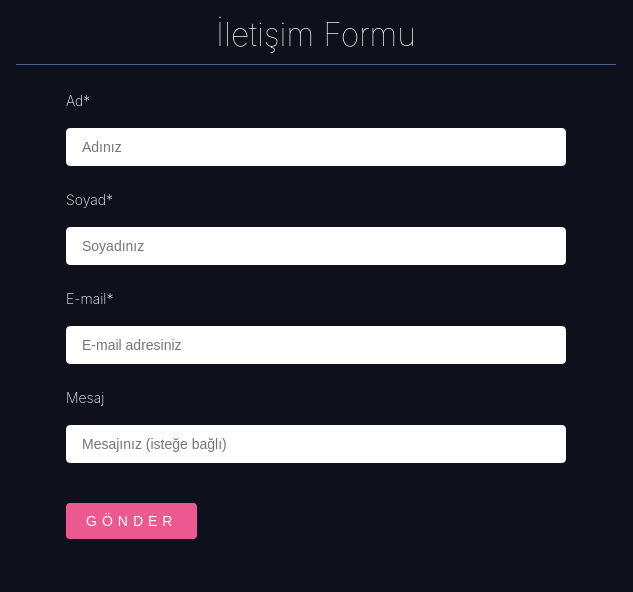
Test: [5] kullanıcı doğru ad ve soyad girdiğinde ama email girmediğinde BİR hata mesajı render ediliyor.
Type "Ahmet" into the field with test id "name-input" at (316, 147), box left=66, top=128, right=566, bottom=166
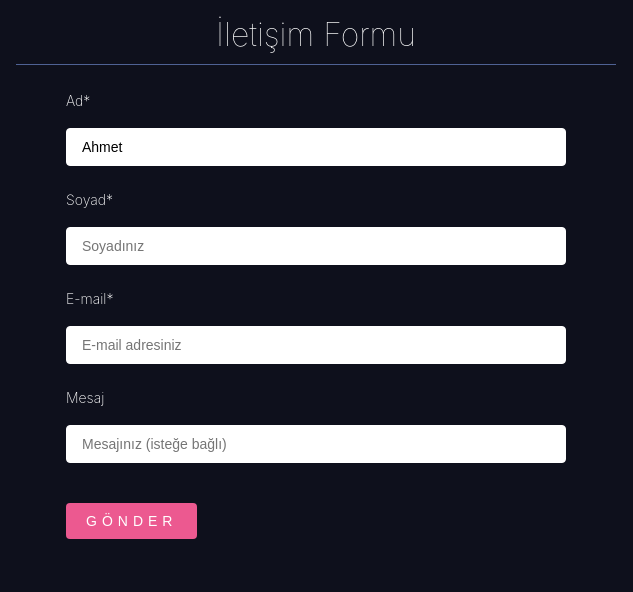
Type "Yilmaz" into the field with test id "lastName-input" at (316, 246), box left=66, top=227, right=566, bottom=265
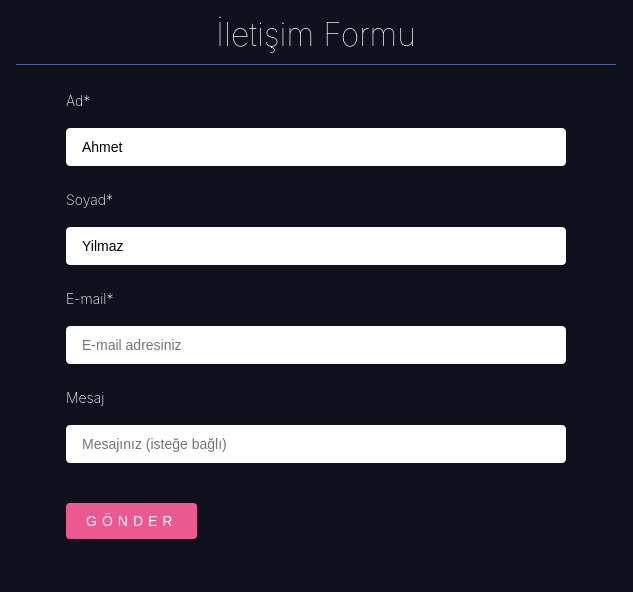
Click the button "Gönder" at (132, 521), box left=66, top=503, right=198, bottom=539
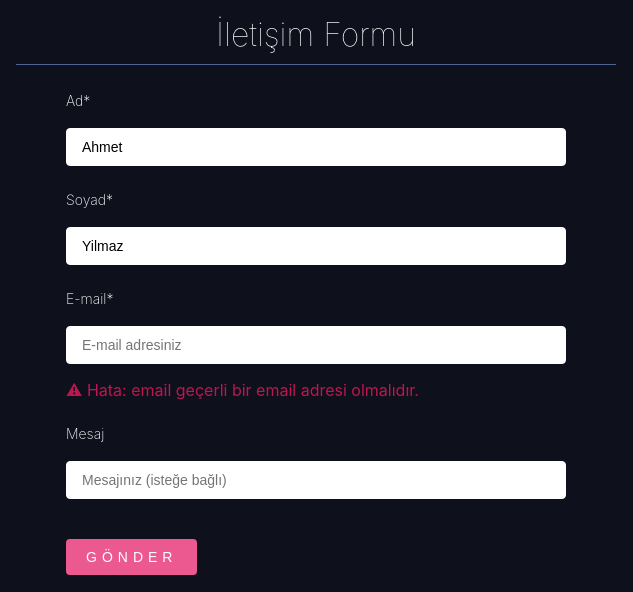
Expected: the number of elements with test id "error" is 1, left=87, top=380, right=419, bottom=400
